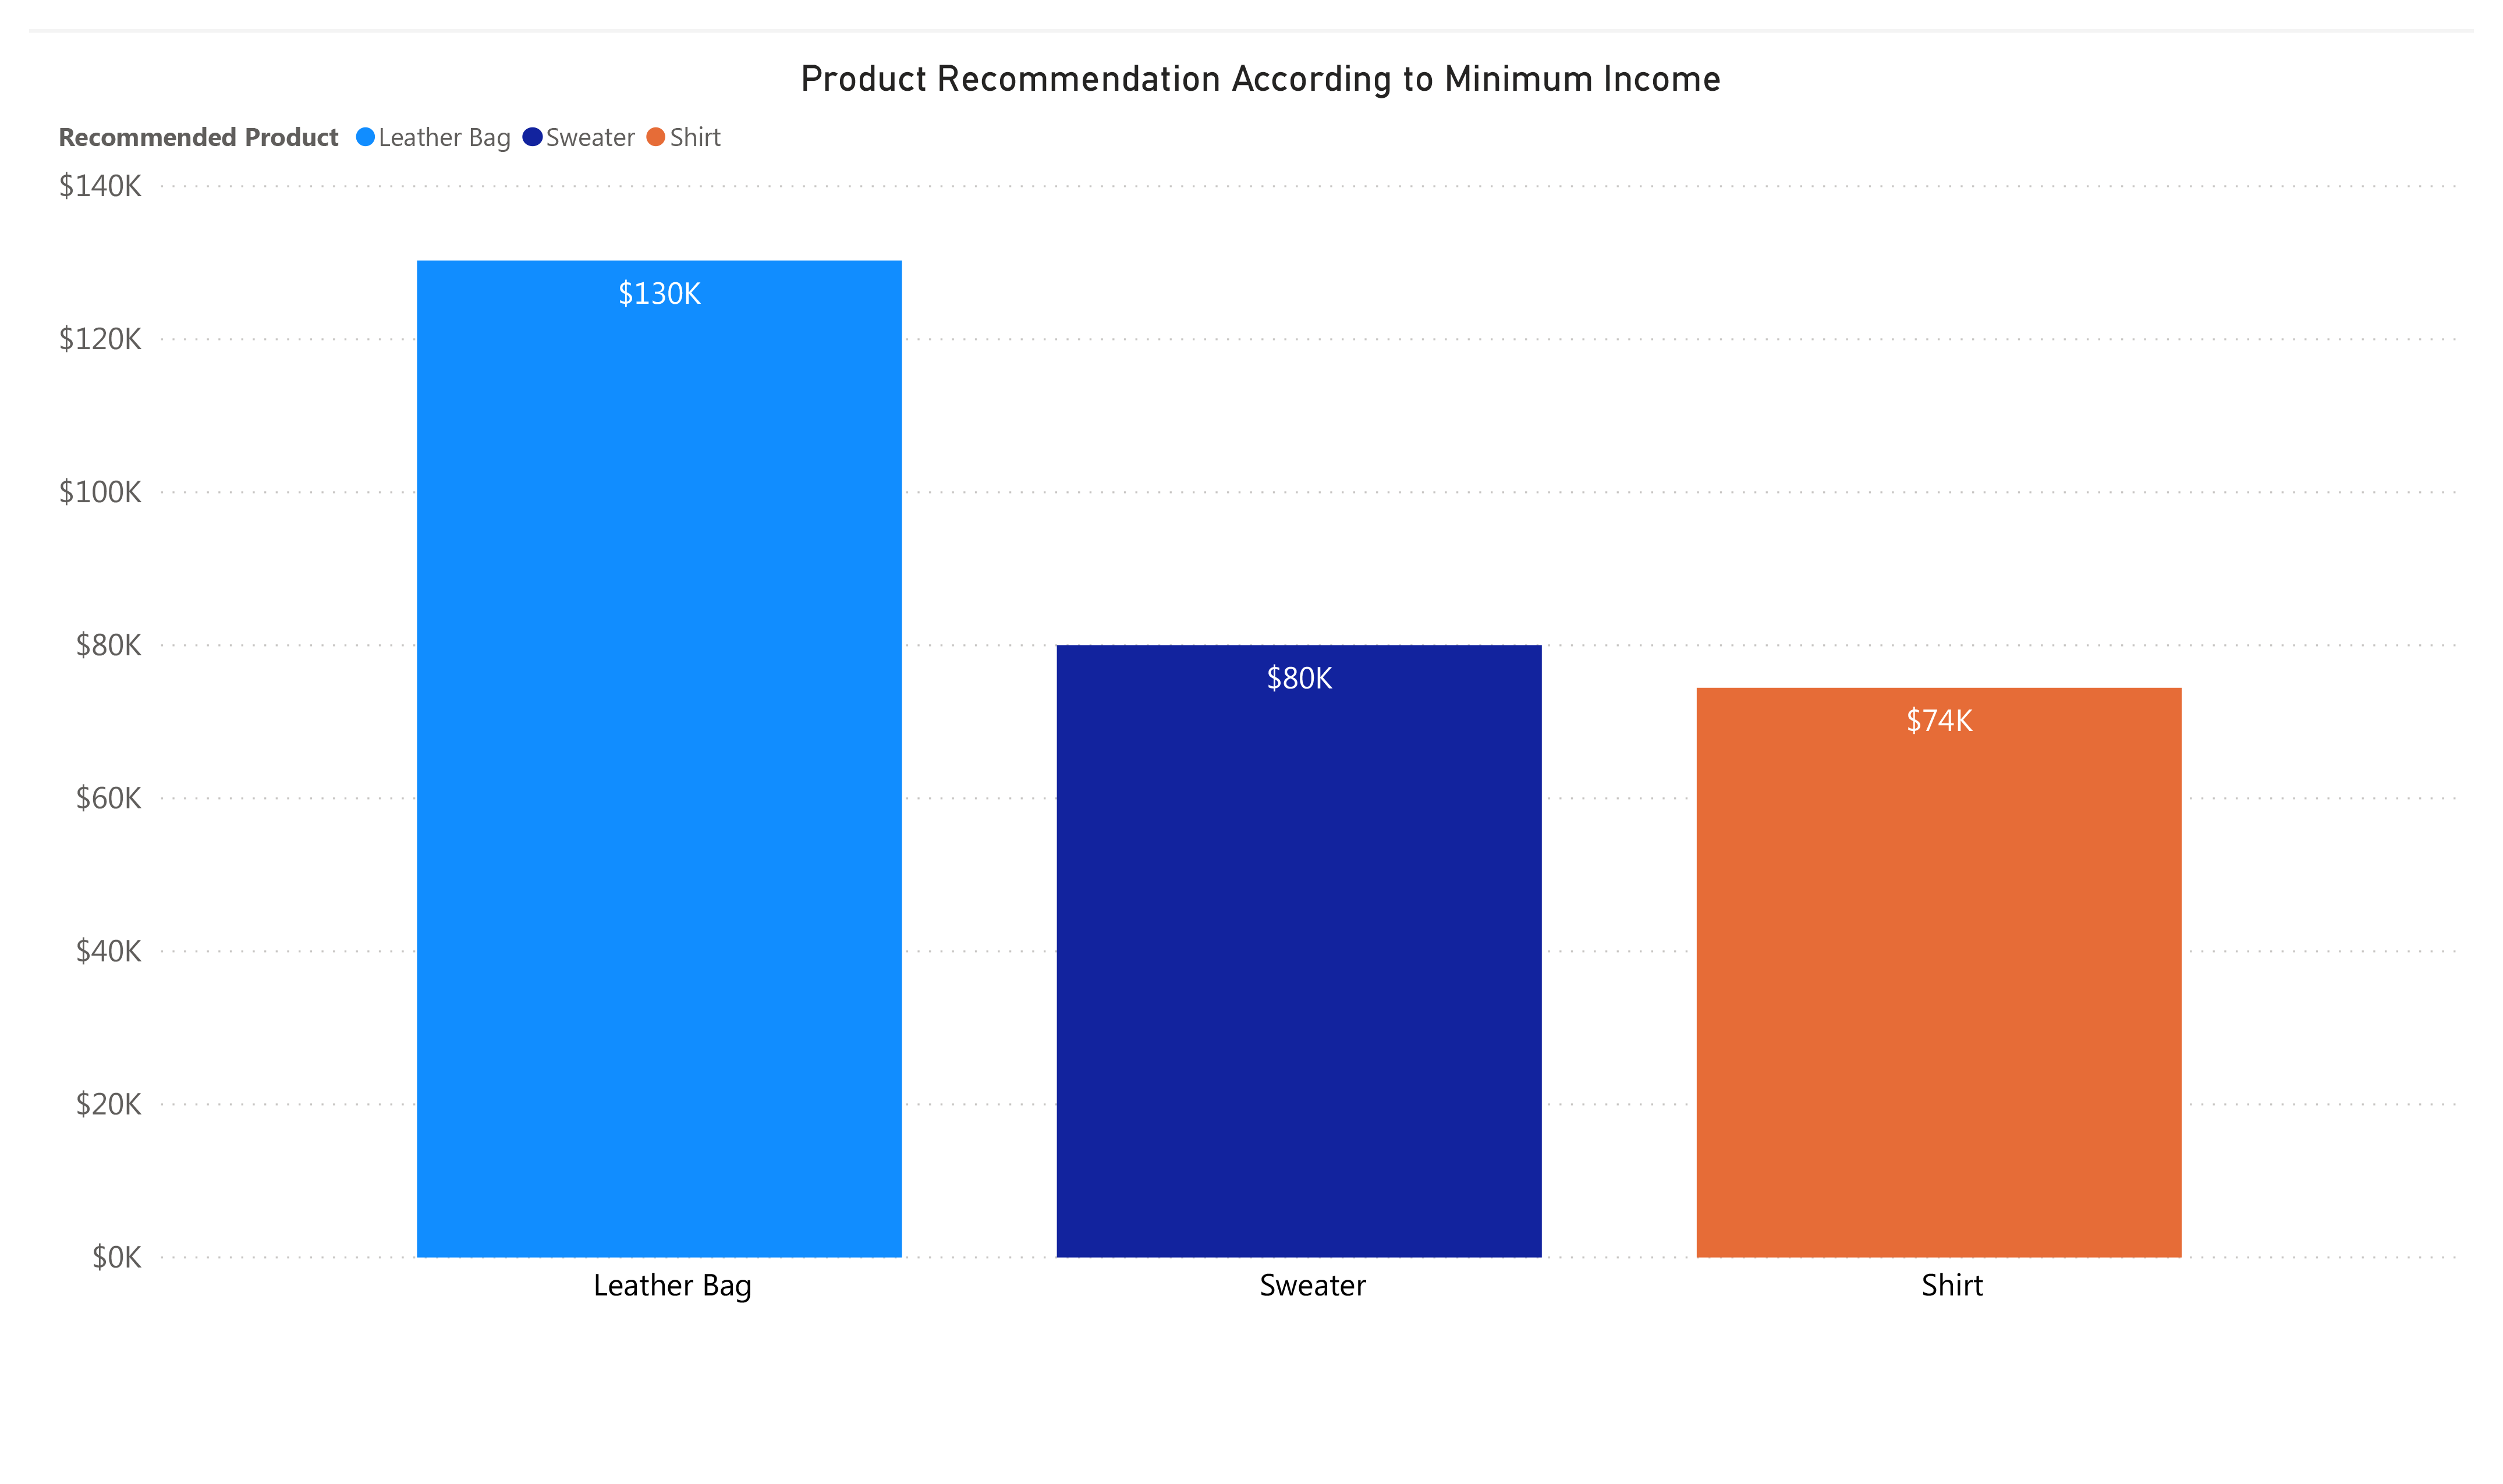

What the dashboard file says about the page in this screenshot:
{"tool":"powerbi","page":{"name":"Product Recommendation","canvas":[1280,720],"ordinal":4},"visuals":[{"type":"columnChart","title":"Product Recommendation According to Minimum Income","fields":{"Category":["Customer List.Recommended Product"],"Series":["Customer List.Recommended Product"],"Y":["Min(Customer List.Predicted Customer Income)"]},"box":[10.1,0,1269.7,663.7],"z":0}]}

Visuals, with their boxes on the page's 1280x720 design canvas (x1, y1, x2, y2). These are canvas units, not pixel positions in the 2503x1484 screenshot, which may show the page scaled, cropped or inside an application window:
"Product Recommendation According to Minimum Income" columnChart: <bbox>10, 0, 1280, 664</bbox>
